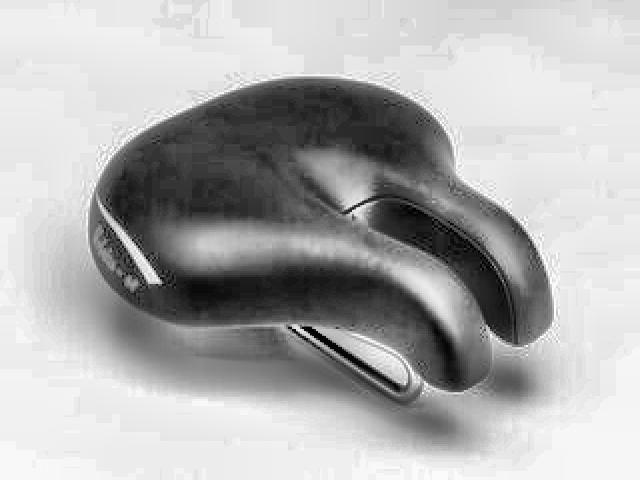saddle: (93, 65, 555, 398)
